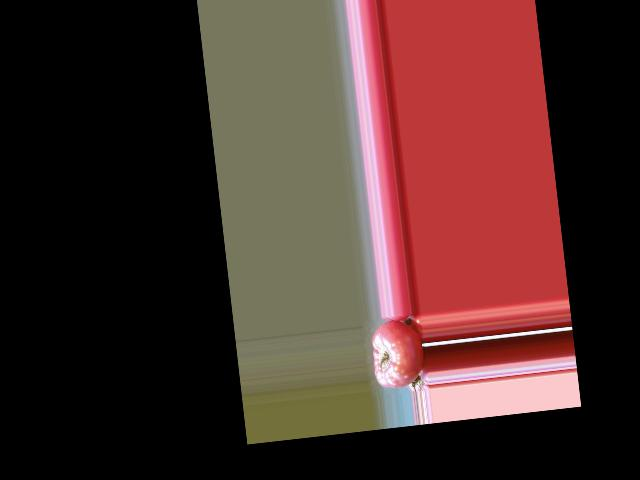tomato: (369, 316, 427, 390)
